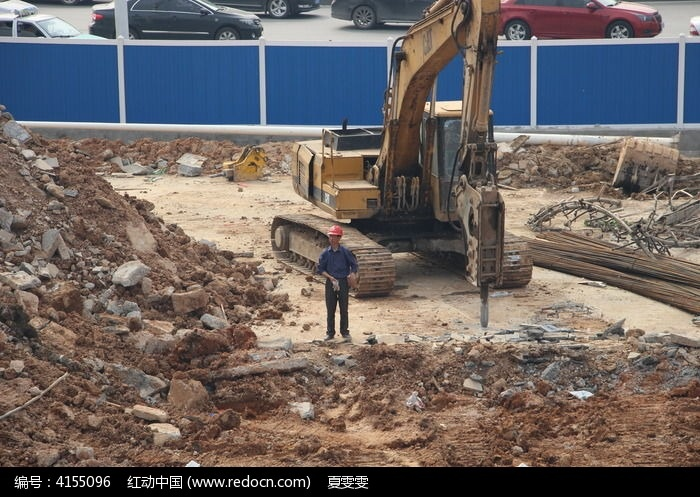red: (326, 225, 343, 247)
